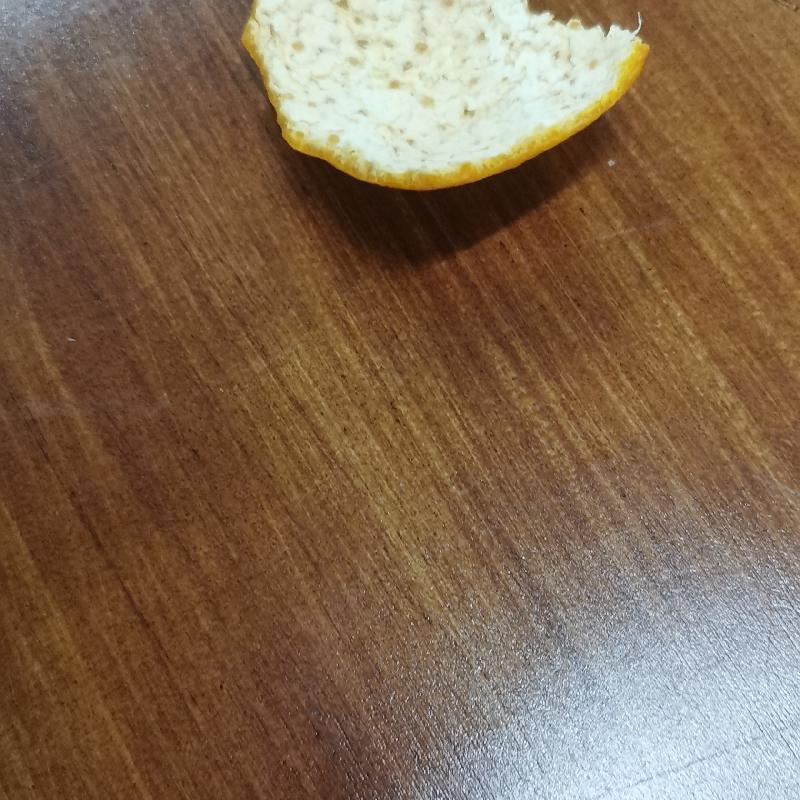orange: (234, 0, 657, 201)
